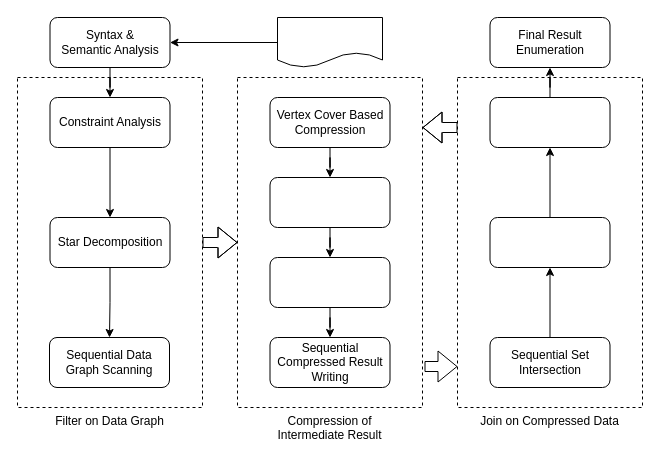
This 660x461 diagram has some shape labels left out. The shapes that lost their labels are listed below. From the top down, each one's centre as x and y in pixels, then its label:
point 329,42: Graph Matching Query
point 549,122: Global Constraint Analysis
point 329,202: Equivalence Classes
point 549,242: Equivalence Class
point 329,282: Space Preallocation
